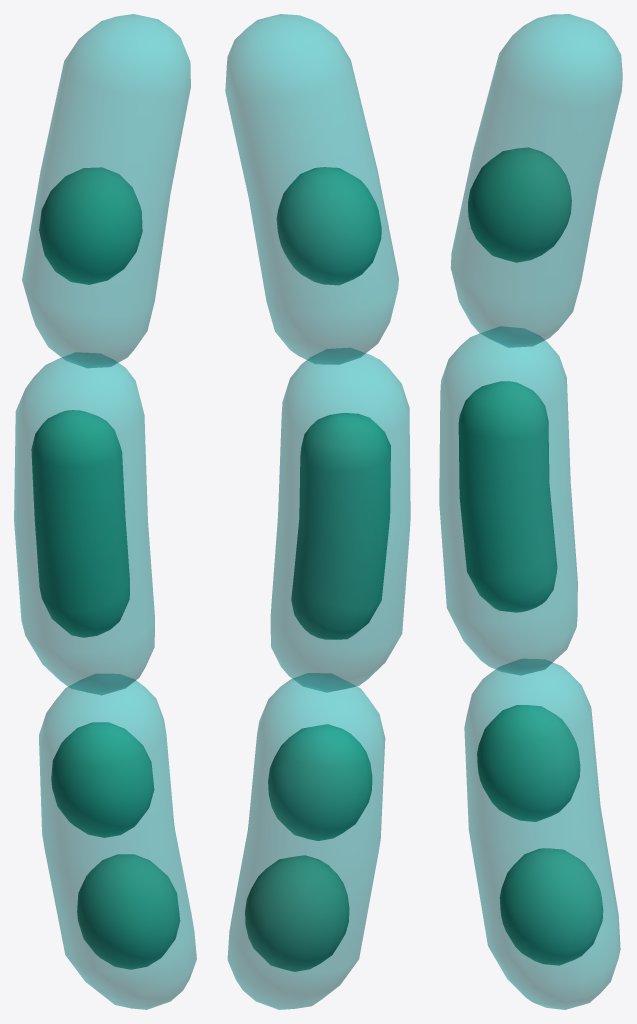
The model's file is capsule_contents_004.glb.
3 views of the same model, side by side, from view 1: azimuth 30°, elevation 25°; view 2: azimuth 150°, elevation 25°; view 3: azimuth 330°, elevation 25° (orthographic).
Parts seen in each view (by area): view 1: Сapsule_contents_004; view 2: Сapsule_contents_004; view 3: Сapsule_contents_004.
Boxes of the visible parts, <box> form: Сapsule_contents_004: <box>14,14,196,1009</box>; Сapsule_contents_004: <box>225,14,410,1009</box>; Сapsule_contents_004: <box>439,14,622,1009</box>.
Bounding box in the file's own units: 0.2399 × 1.37 × 0.1781.
2 materials, 2 textured.
